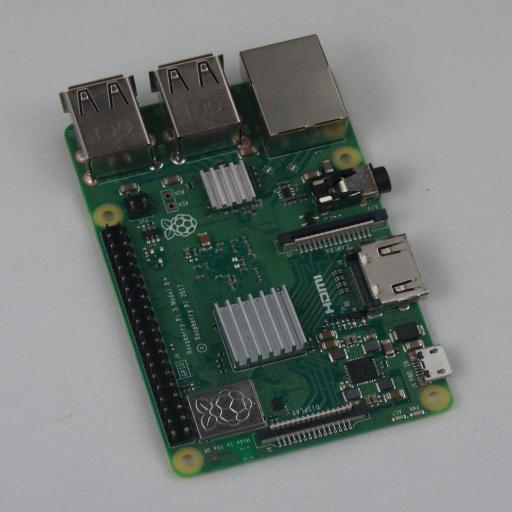Raspberry Pi 3 B-: (59, 34, 453, 476)
